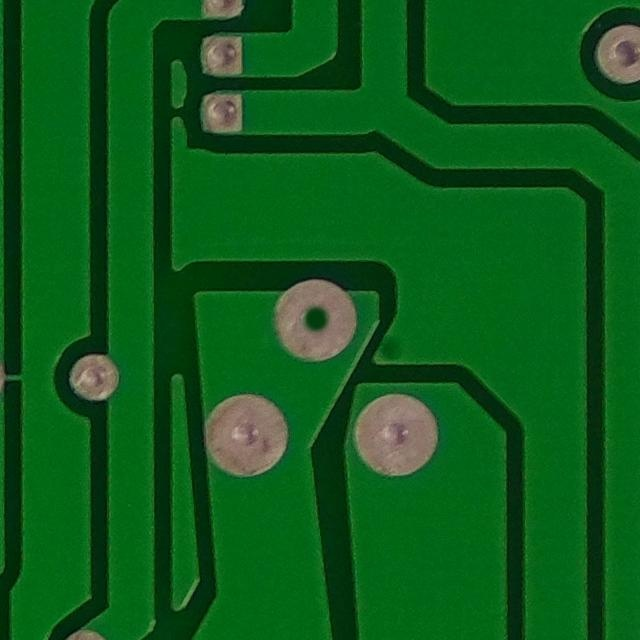missing_hole: (282, 274, 358, 365)
